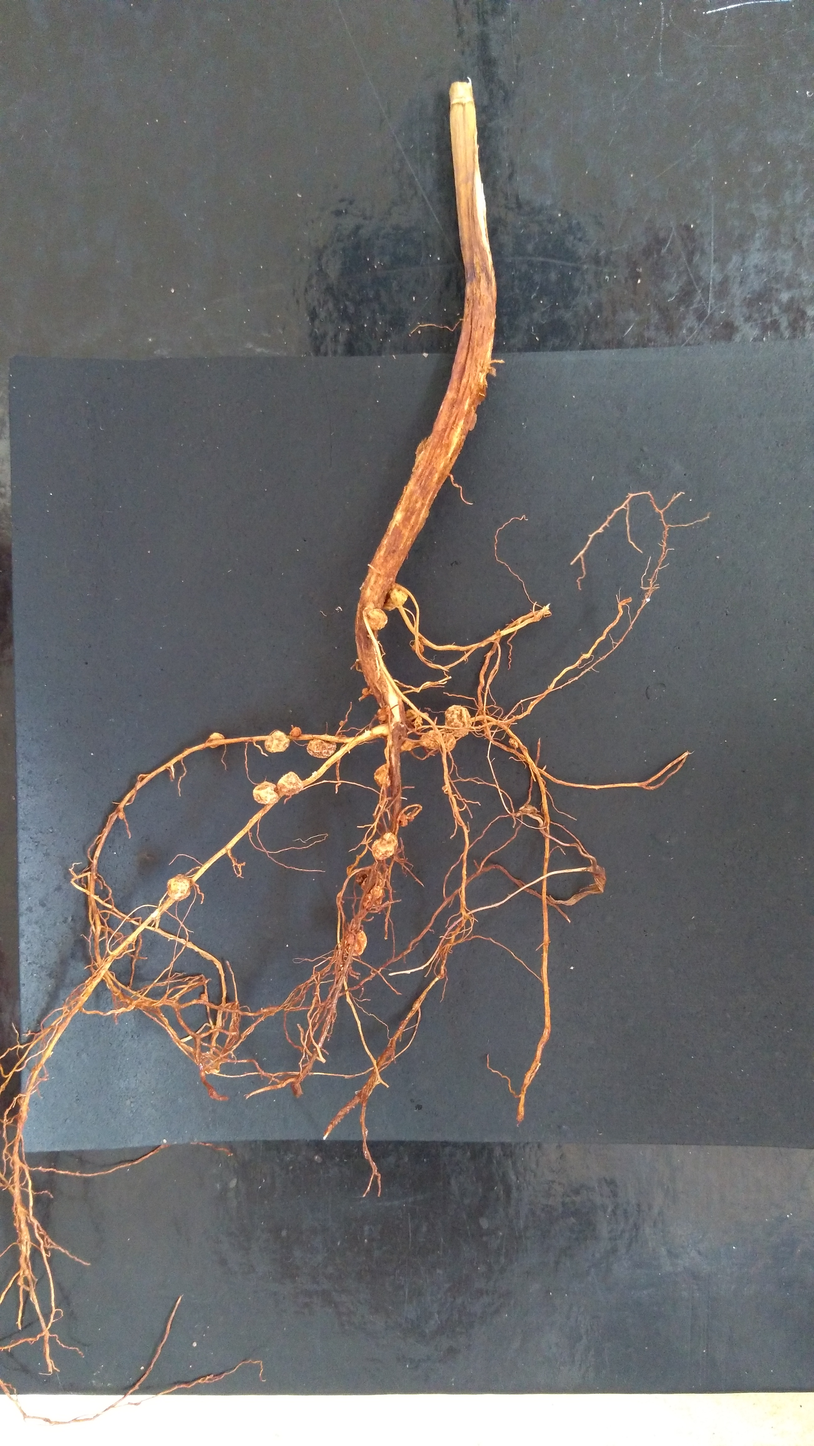nodule: (443, 702, 473, 739), (370, 830, 399, 862), (380, 585, 410, 612), (165, 873, 192, 903), (276, 769, 304, 796), (251, 779, 280, 805), (362, 883, 386, 913), (263, 729, 291, 754), (306, 738, 337, 760), (365, 607, 389, 632), (350, 927, 368, 958), (372, 763, 392, 790), (419, 729, 442, 751), (205, 731, 226, 750), (441, 733, 457, 753), (400, 739, 417, 752), (376, 707, 388, 725), (288, 725, 303, 737), (404, 707, 417, 720), (508, 737, 521, 750), (410, 643, 425, 654), (400, 812, 409, 827), (360, 686, 370, 696)
